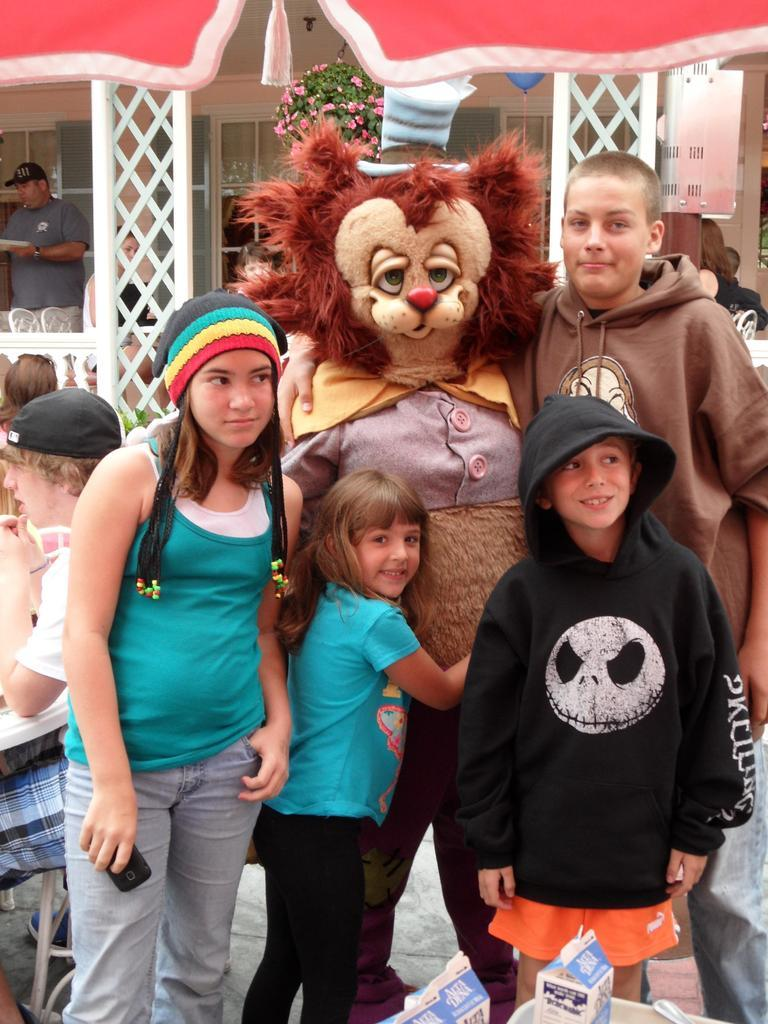Hat: (3, 162, 46, 188)
